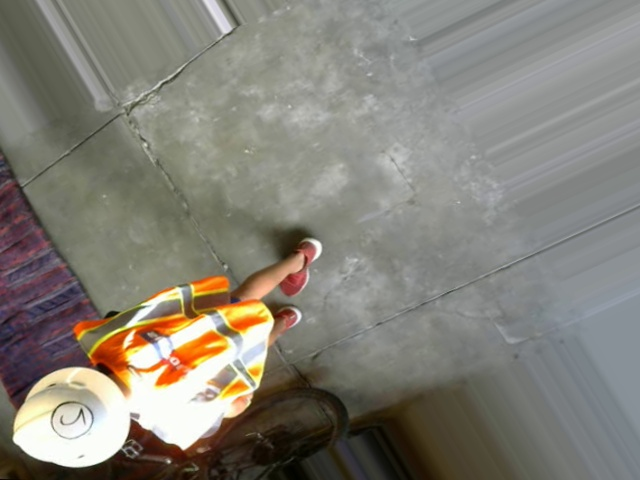two: (41, 394, 99, 445)
